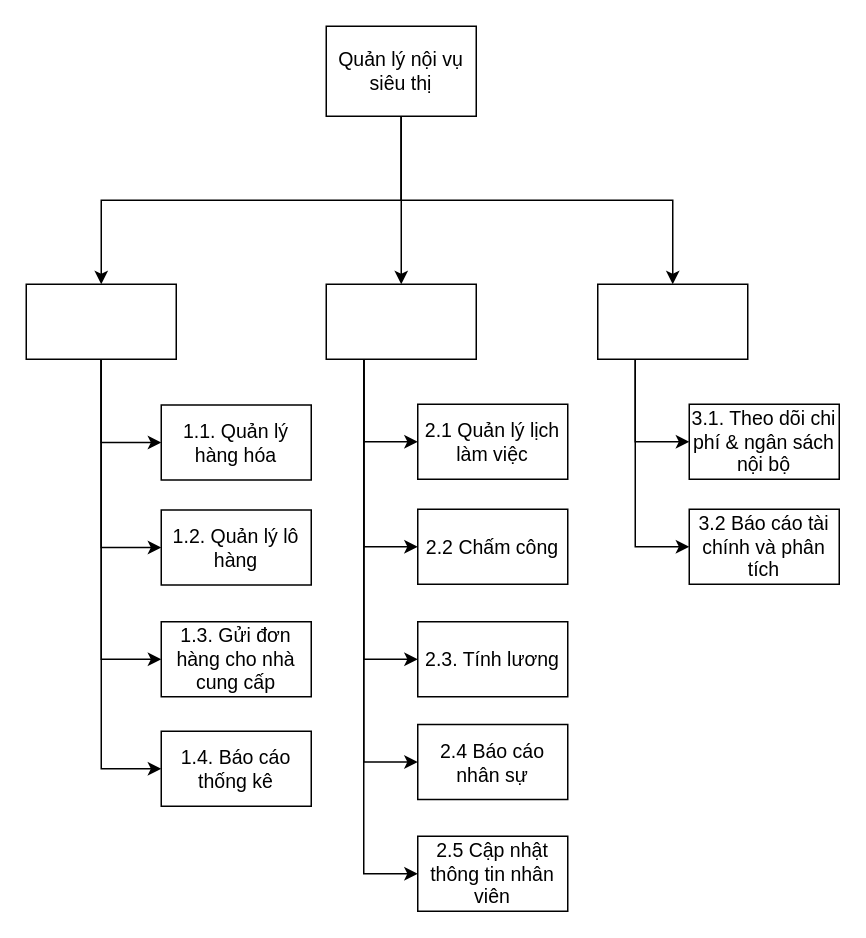
Some shapes in this 866 by 938 pixel diagram are drawn without their labels. Here are the shapes that lost their labels. From the top down, the centre of each, then its label:
At (x=100, y=321): "1. Quản lý kho".
At (x=400, y=321): "2. Quản lý nhân viên".
At (x=672, y=321): "3. Quản lý tài chính".
